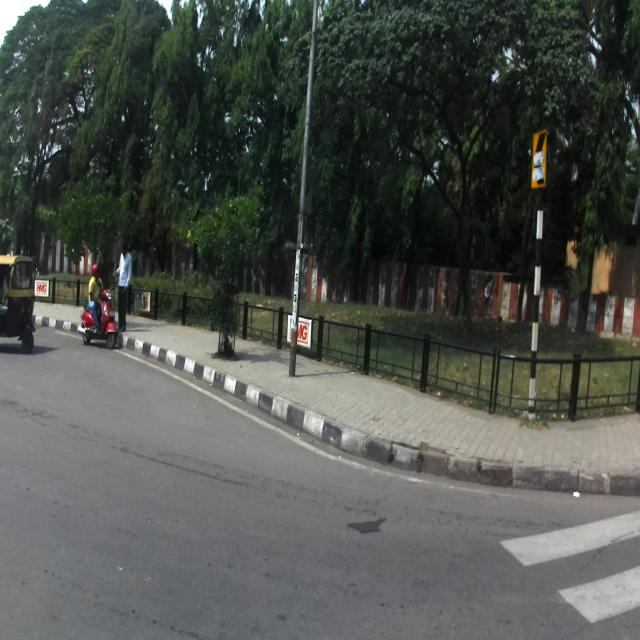auto ahead at: (0, 250, 38, 368)
motorcycle ahead at: (76, 288, 122, 350)
